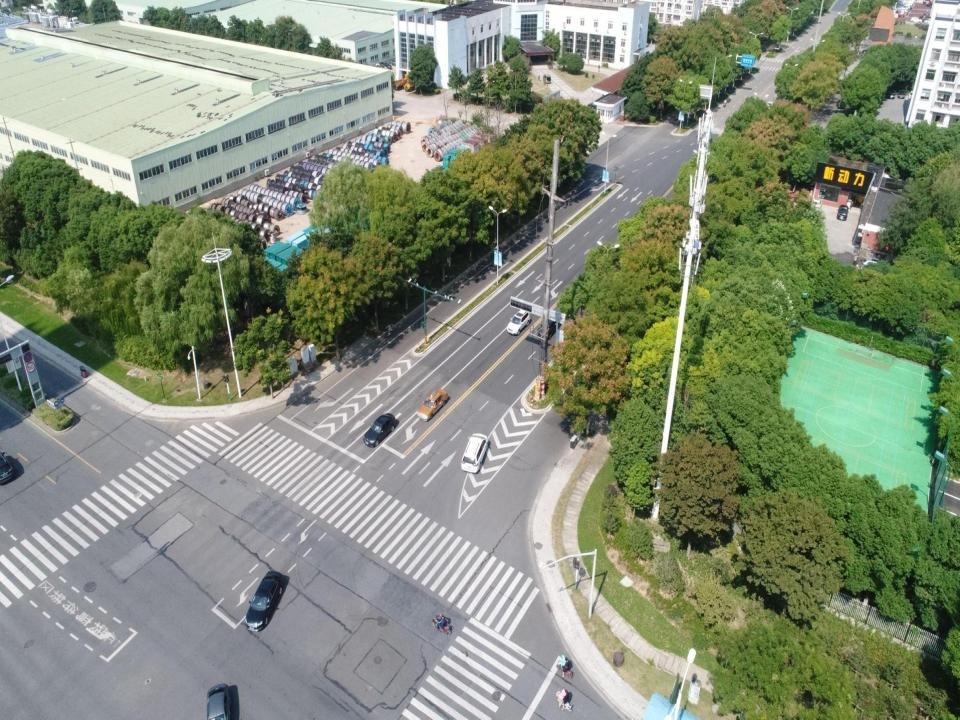car: (244, 568, 282, 632), (364, 412, 399, 450), (461, 430, 490, 473), (416, 386, 448, 424), (202, 684, 231, 719), (505, 306, 532, 335), (836, 204, 850, 219)
